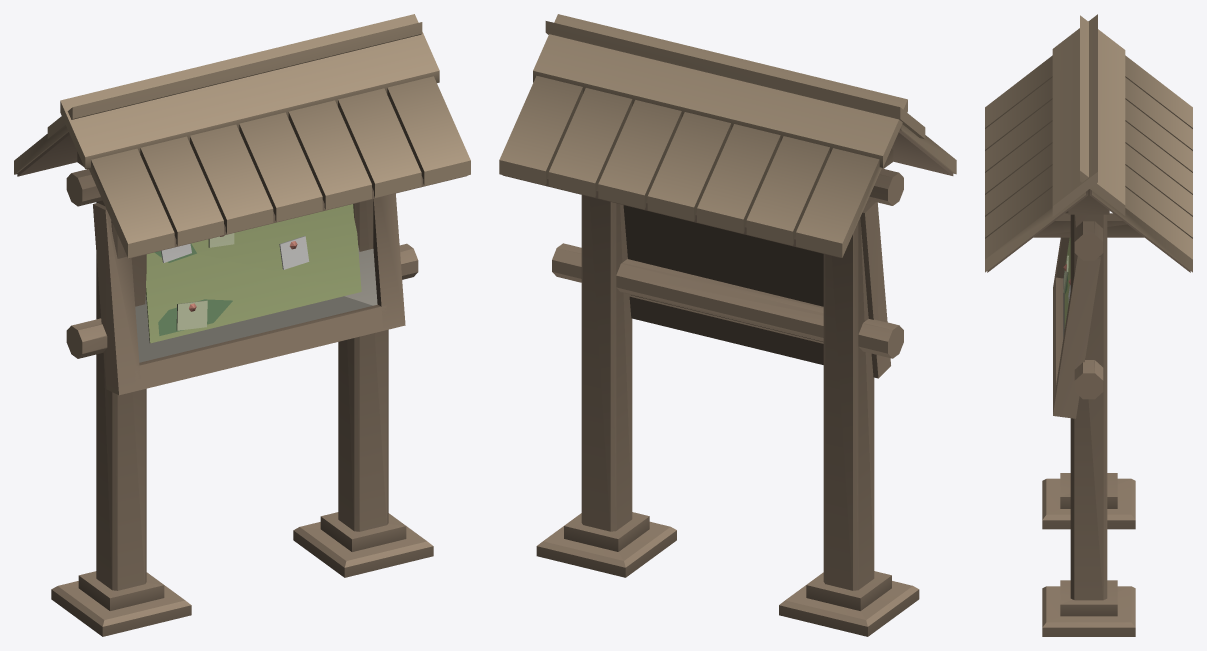
Rendered from kiosk.glb.
The picture shows the model from 3 angles, left to right: view 1: azimuth 30°, elevation 25°; view 2: azimuth 150°, elevation 25°; view 3: azimuth 270°, elevation 25°; orthographic projection. The views are drawn at different scales.
Visible parts, largest first — view 1: kiosk; view 2: kiosk; view 3: kiosk.
Part boxes in pixels (x1,y1,x2,y2): kiosk: (14, 14, 470, 636); kiosk: (499, 14, 956, 636); kiosk: (985, 14, 1192, 636).
Size of the model in its own units: 1.87 by 2.6 by 1.04.
